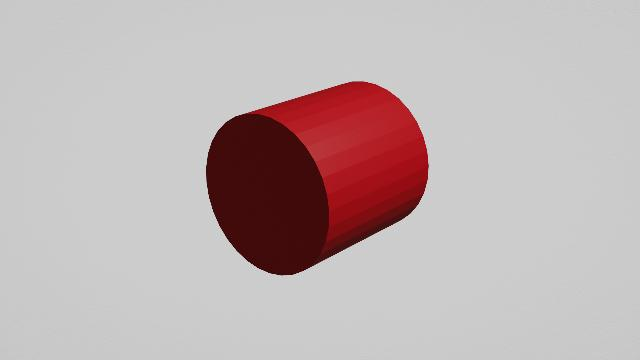Cylinder: (202, 78, 436, 284)
